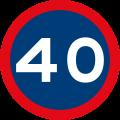Speed limit -40-: (8, 37, 108, 91)
